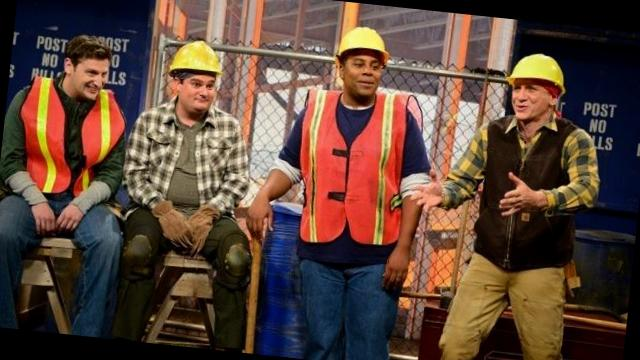helmet: (505, 50, 572, 92), (167, 34, 228, 74), (342, 22, 394, 56)
no_vest: (462, 114, 594, 282), (126, 100, 256, 230)
person: (263, 15, 446, 360), (433, 41, 615, 360), (105, 31, 277, 353), (0, 26, 142, 339)
